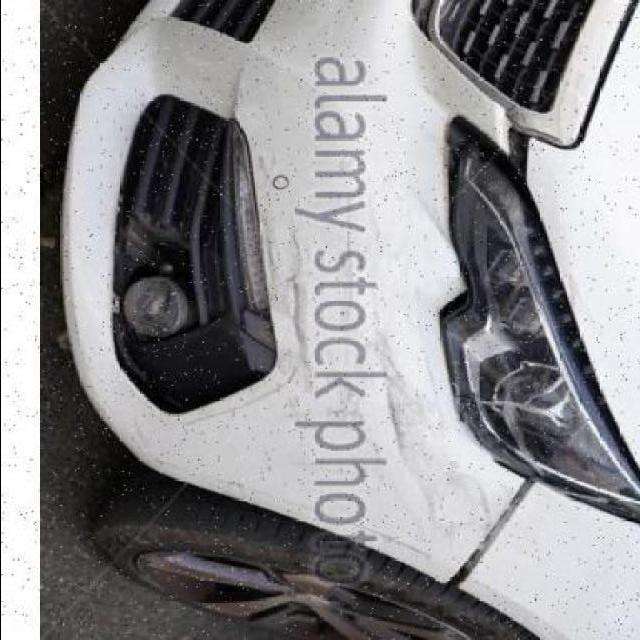front-bumper-dent: (55, 0, 532, 577), (111, 0, 537, 363)
